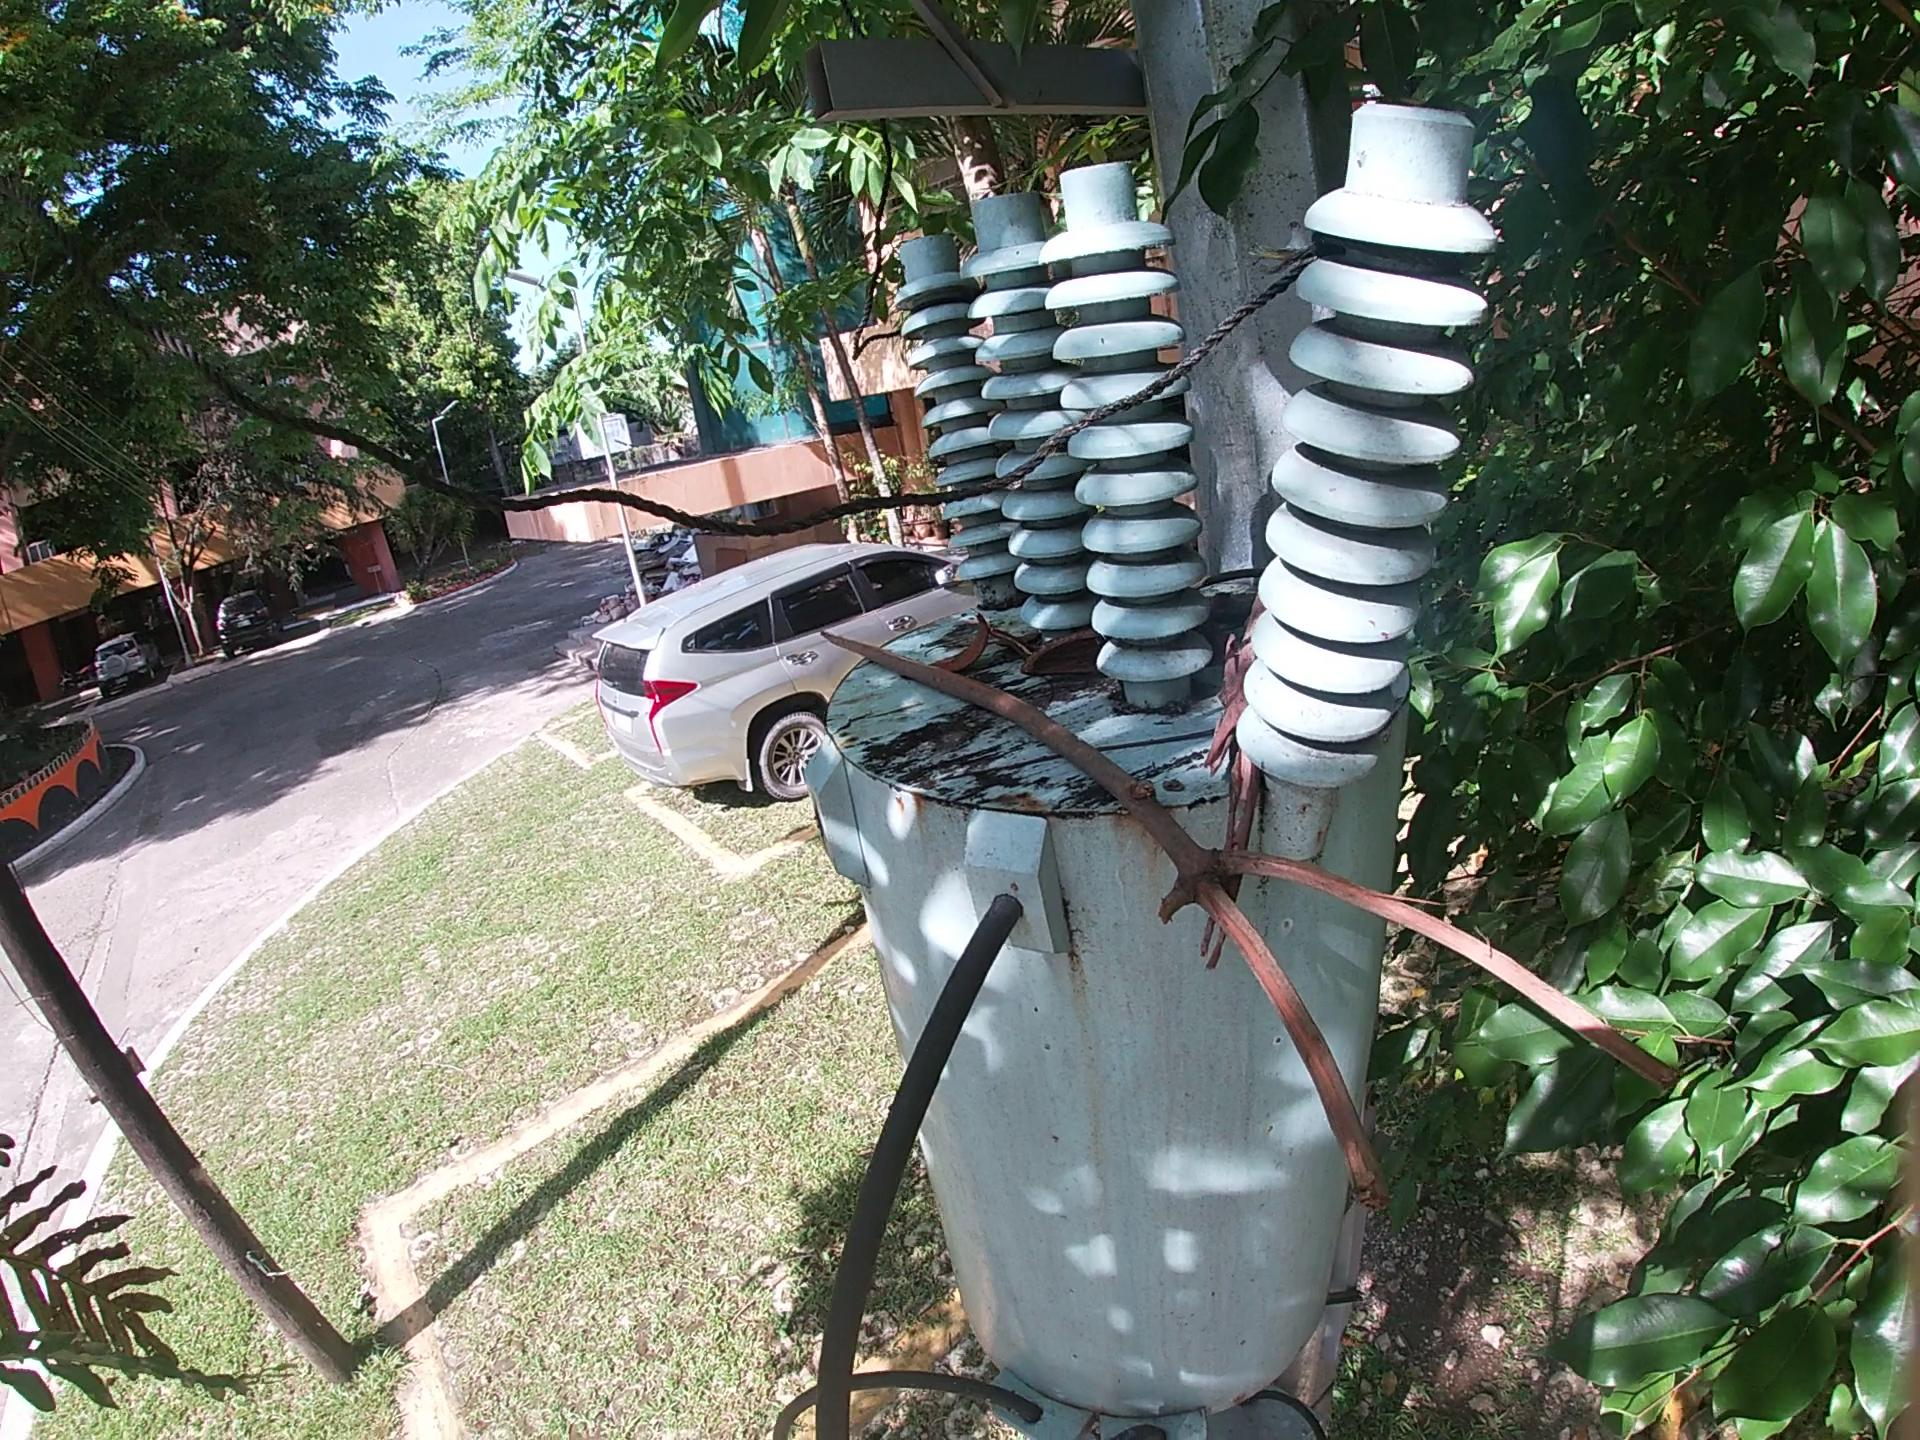mahogany fruit: (1002, 640, 1108, 688), (927, 610, 993, 666), (1203, 628, 1246, 667)
tree branch: (816, 625, 1784, 1245), (1188, 591, 1271, 1007), (934, 728, 1226, 788), (1190, 591, 1274, 629), (1190, 560, 1276, 591)
